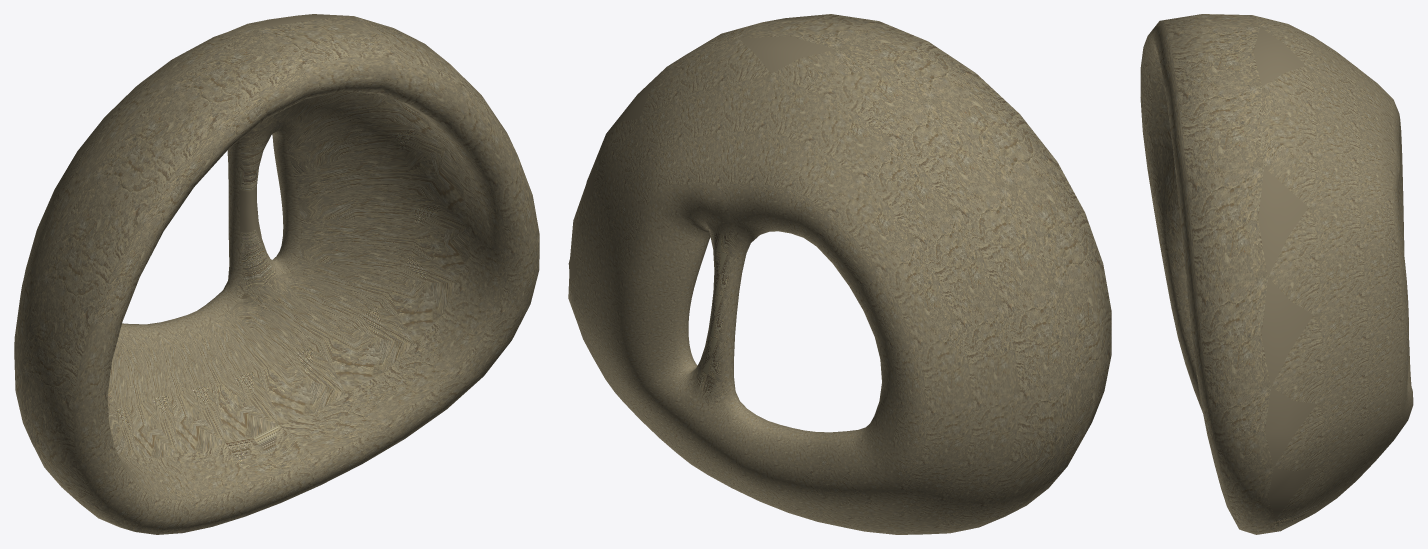
The model's file is saltmine_opening_02.dae.
3 renders of one model, left to right at view 1: azimuth 30°, elevation 25°; view 2: azimuth 150°, elevation 25°; view 3: azimuth 270°, elevation 25°, orthographic.
Parts seen in each view (by area): view 1: opening_02; view 2: opening_02; view 3: opening_02.
Part boxes in pixels (left/top/right/bottom): opening_02: left=14, top=14, right=539, bottom=534; opening_02: left=568, top=14, right=1111, bottom=534; opening_02: left=1140, top=14, right=1413, bottom=534.
Bounding box in the file's own units: 11.33 × 10.19 × 5.3.
